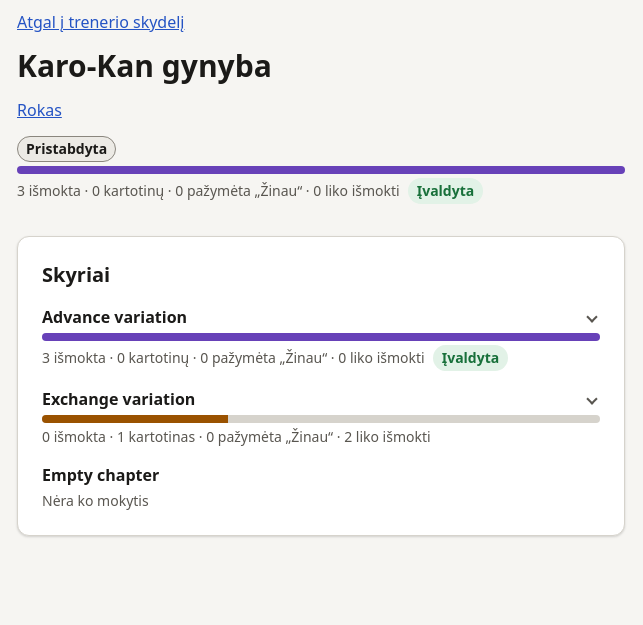
Scenario: the progress page (R-152) › opens a chapter to its numbered lines
Click the text "Advance variation" at (115, 317), box [42,306,187,328]
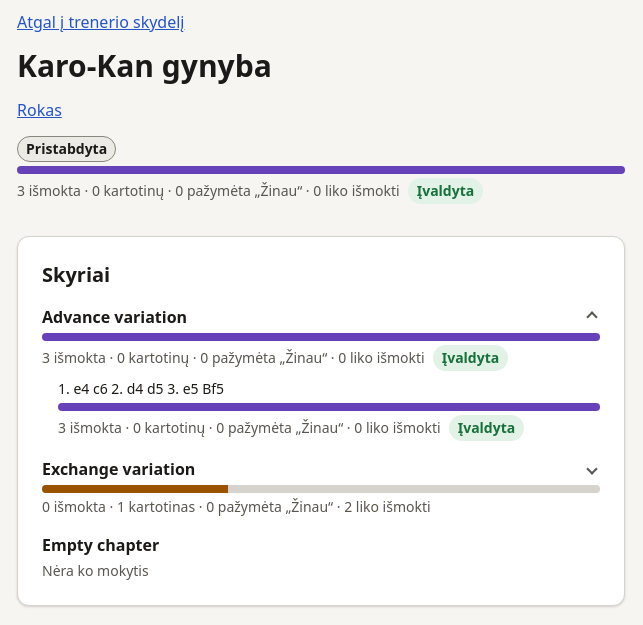
Expected: the text "1. e4 c6 2. d4 d5 3. e5 Bf5" is shown, [58,379,224,398]
